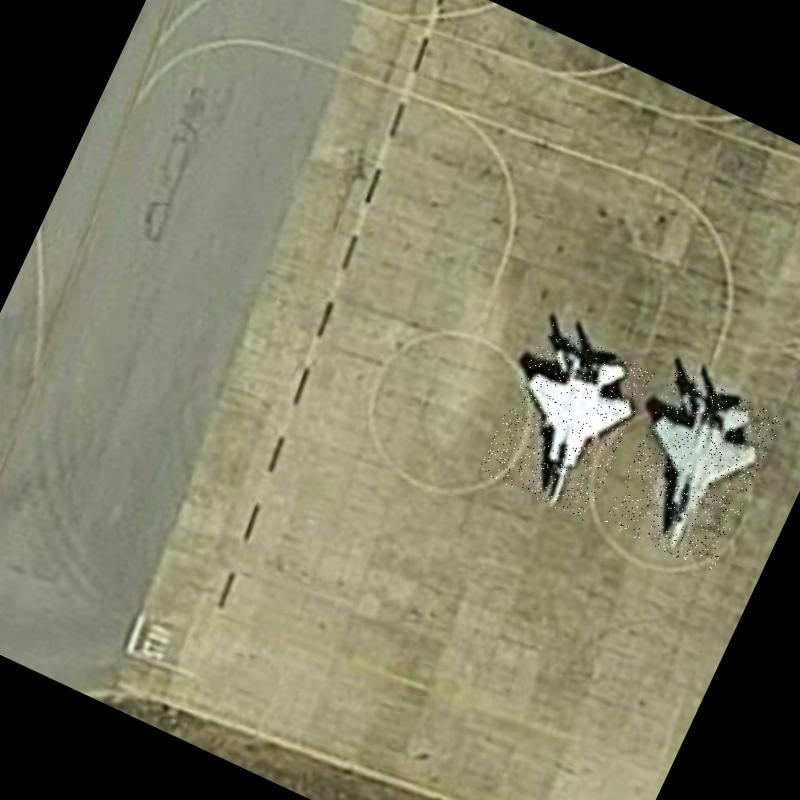A13: (602, 367, 783, 574), (477, 322, 655, 522)
